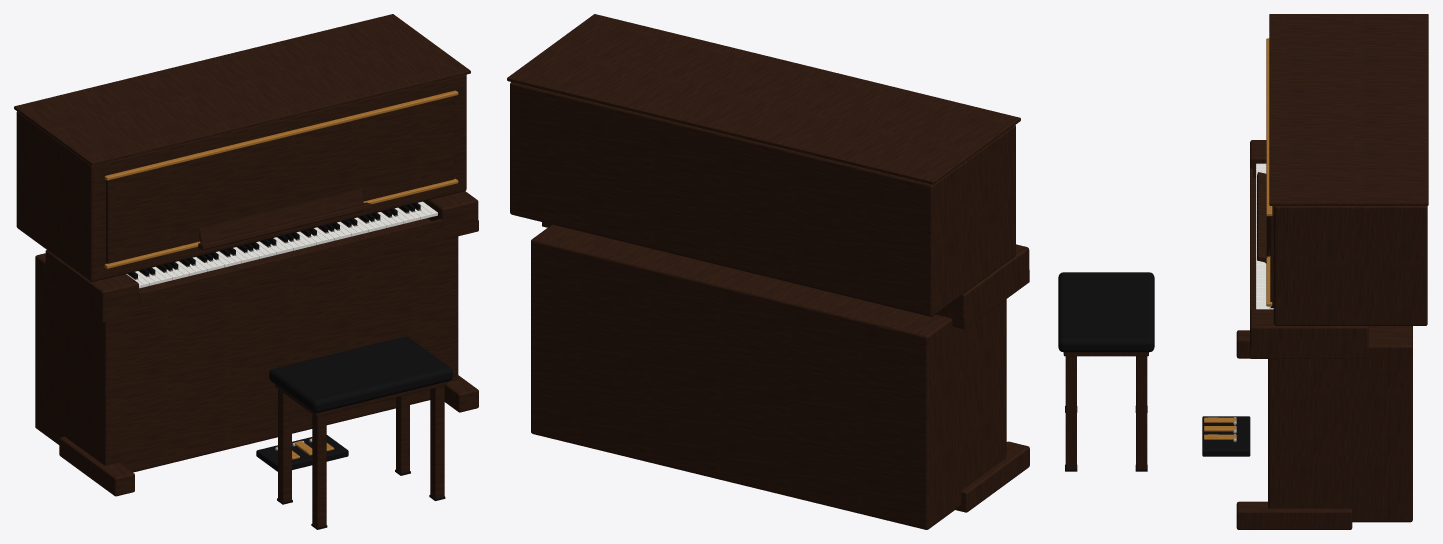
Rendered from UprightPiano88.glb.
3 views of the same model, side by side, from view 1: azimuth 30°, elevation 25°; view 2: azimuth 150°, elevation 25°; view 3: azimuth 270°, elevation 25° (orthographic). The views are drawn at different scales.
Parts seen in each view (by area): view 1: Case_LowerCabinet, Upright_TopLid, Case_UpperPanel, Case_UpperCabinet, Bench_Cushion, Case_Base, Case_FrontRail, Case_PanelTrim, MusicRest_Board, Case_Cheek_Left, Stand_UprightToe_Left, Bench_Leg_Left_Front (+8 smaller); view 2: Case_LowerCabinet, Case_UpperCabinet, Upright_TopLid, Case_Cheek_Left, Stand_UprightToe_Left, Case_Base; view 3: Upright_TopLid, Case_LowerCabinet, Case_UpperCabinet, Bench_Cushion, Case_Cheek_Right, Stand_UprightToe_Right, Case_Base, Pedals_Base, Bench_Leg_Right_Rear, Bench_Leg_Right_Front, Case_PanelTrim, MusicRest_Ledge (+1 smaller).
Part boxes in pixels (x1,y1,x2,y2): Case_LowerCabinet: (35,236,458,472); Upright_TopLid: (14,14,470,165); Case_UpperPanel: (106,96,453,263); Case_UpperCabinet: (16,74,466,281); Bench_Cushion: (269,336,452,413); Case_Base: (45,207,478,322); Case_FrontRail: (139,219,442,303); Case_PanelTrim: (104,90,458,268); MusicRest_Board: (199,188,363,250); Case_Cheek_Left: (45,250,138,318); Stand_UprightToe_Left: (59,436,134,496); Bench_Leg_Left_Front: (312,414,326,527); Case_LowerCabinet: (531,224,1006,529); Case_UpperCabinet: (510,82,1015,316); Upright_TopLid: (507,14,1020,184); Case_Cheek_Left: (936,244,1029,326); Stand_UprightToe_Left: (955,441,1029,512); Case_Base: (542,222,1029,329); Upright_TopLid: (1269,14,1428,205); Case_LowerCabinet: (1268,326,1412,522); Case_UpperCabinet: (1273,206,1427,325); Bench_Cushion: (1058,272,1154,352); Case_Cheek_Right: (1250,309,1368,356); Stand_UprightToe_Right: (1236,501,1352,529); Case_Base: (1250,178,1368,358); Pedals_Base: (1202,416,1250,456); Bench_Leg_Right_Rear: (1136,356,1147,469); Bench_Leg_Right_Front: (1065,356,1076,469); Case_PanelTrim: (1266,38,1272,306); MusicRest_Ledge: (1257,172,1267,262).
Bounding box in the file's own units: 1.51 × 1.24 × 1.25.
Materials: 95 (95 with a texture image).
